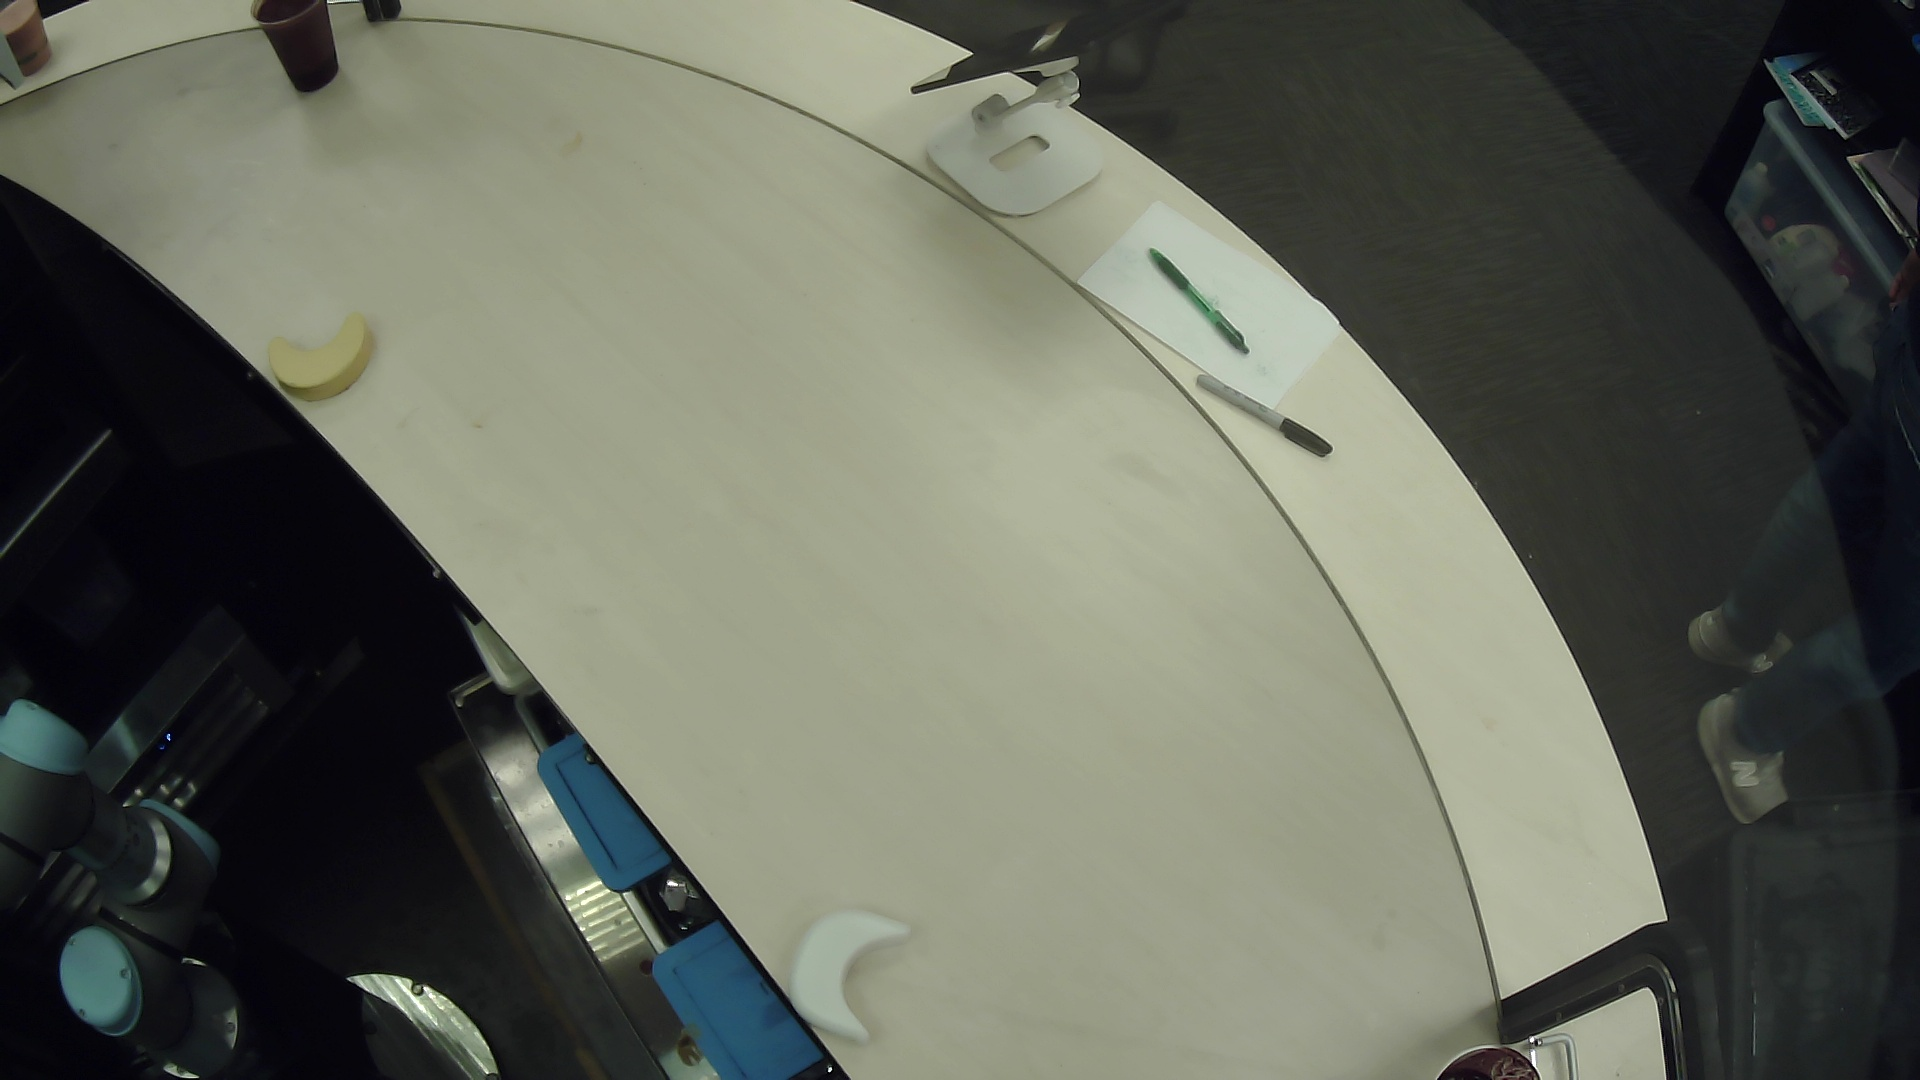Deliver: (771, 881, 934, 1048), (255, 280, 404, 410)
Full_cup: (240, 1, 372, 117), (1383, 1011, 1557, 1080)
